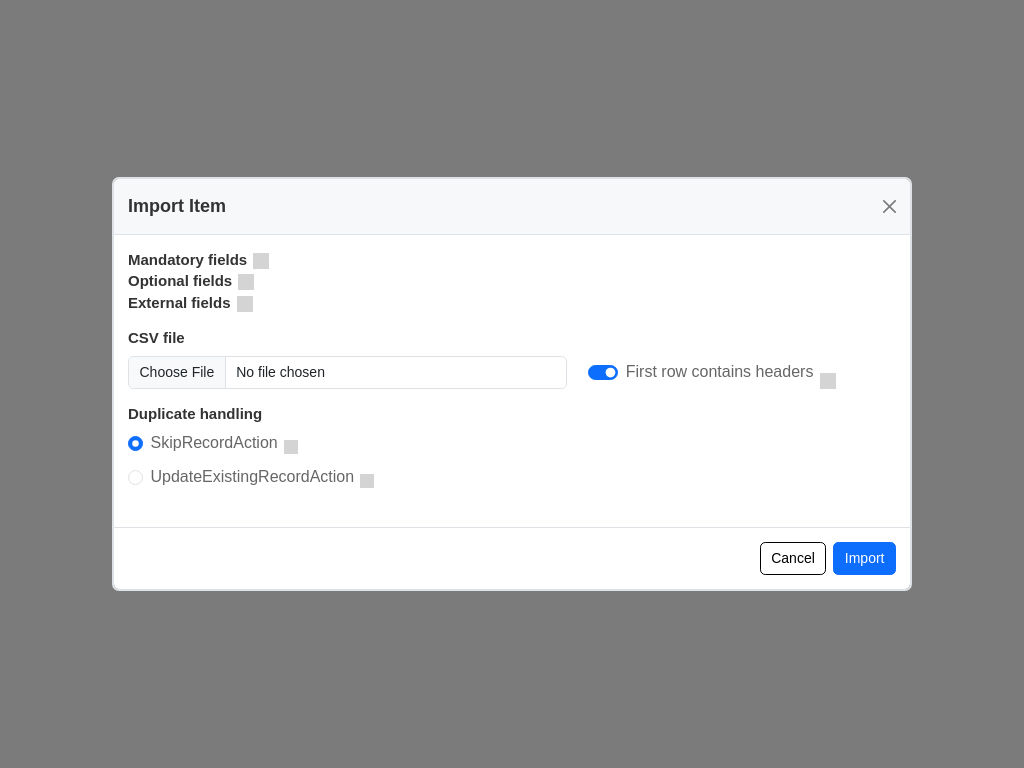
ImportModal › renders field summary and duplicate options from metadata
Expected: the text "Mandatory fields" is shown, [128,249,247,270]
Expected: the text "Optional fields" is shown, [128,270,232,292]
Note: Switching duplicate option should update selection
Click the radio button next to "UpdateExistingRecordAction".
click(136, 477)  # box [128,470,143,485]
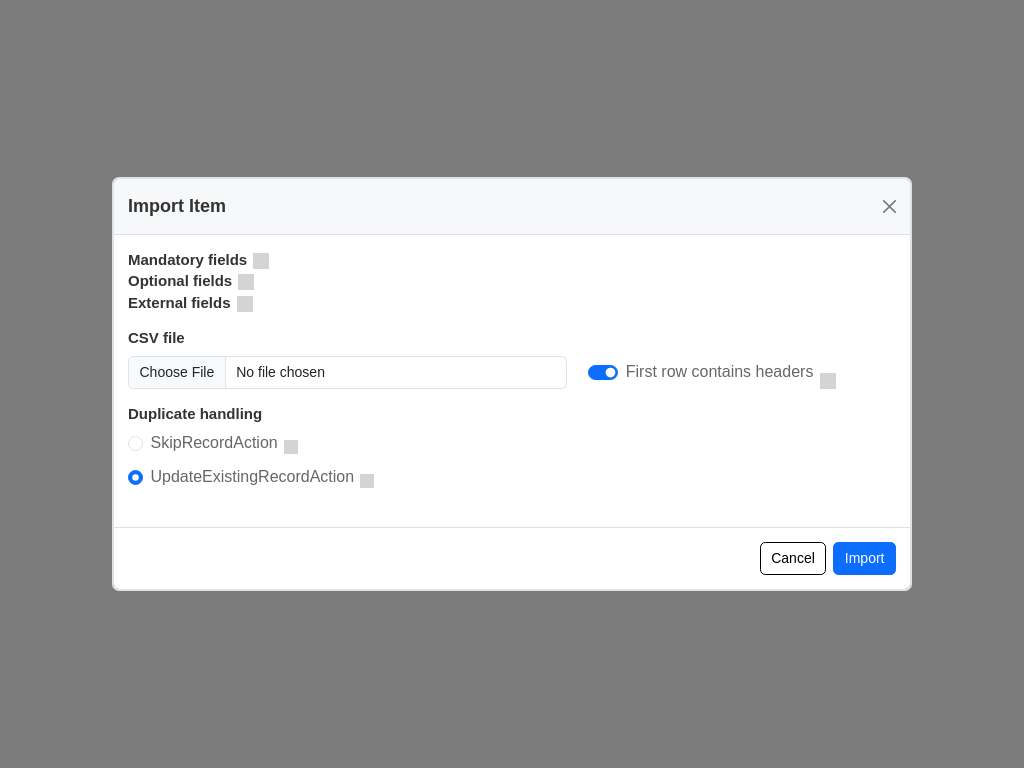
Expected: the radio button next to "UpdateExistingRecordAction" is checked, [128,470,143,485]
Expected: the radio button next to "SkipRecordAction" is not checked, [128,436,143,451]
